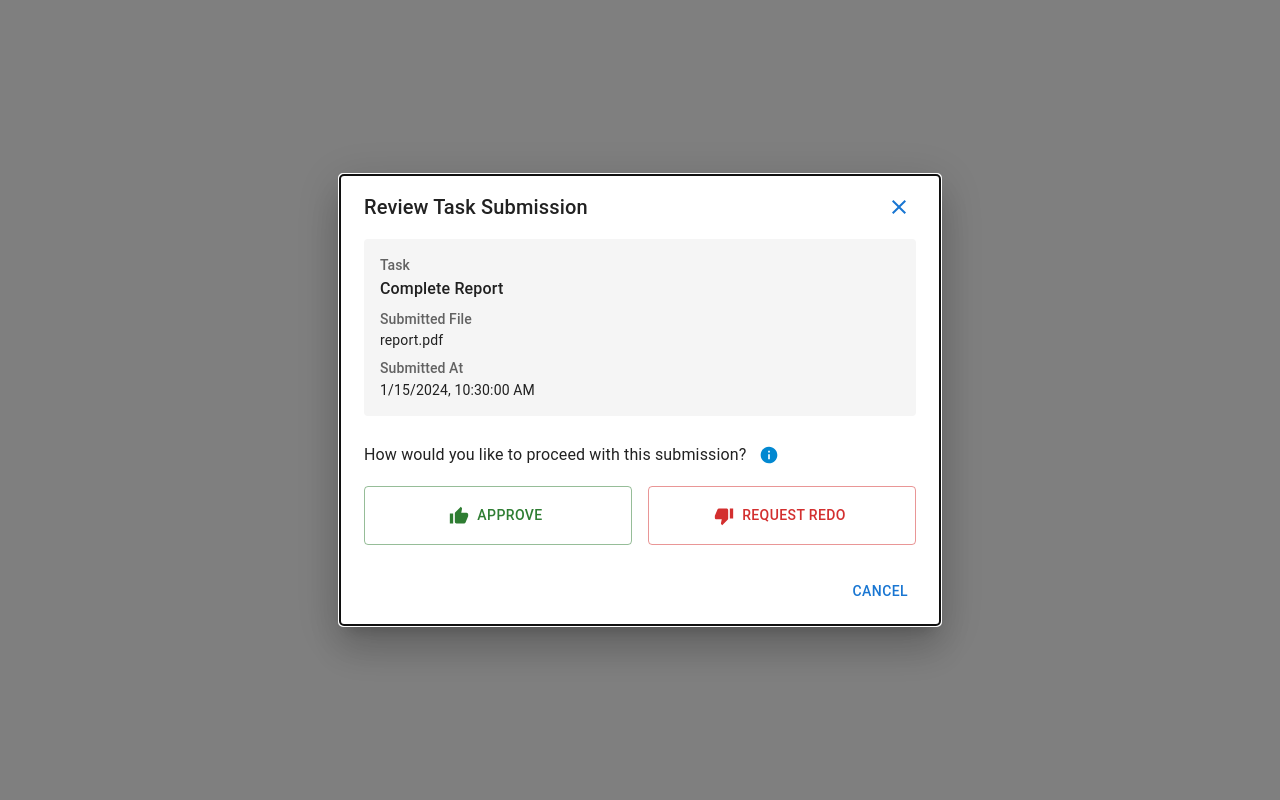
it: ReviewDialog Component › User Interactions › should show redo form when request redo is selected
This screenshot has width=1280, height=800.
Click the button "Request Redo" at (782, 516), box top-left (648, 486), bottom-right (916, 545)
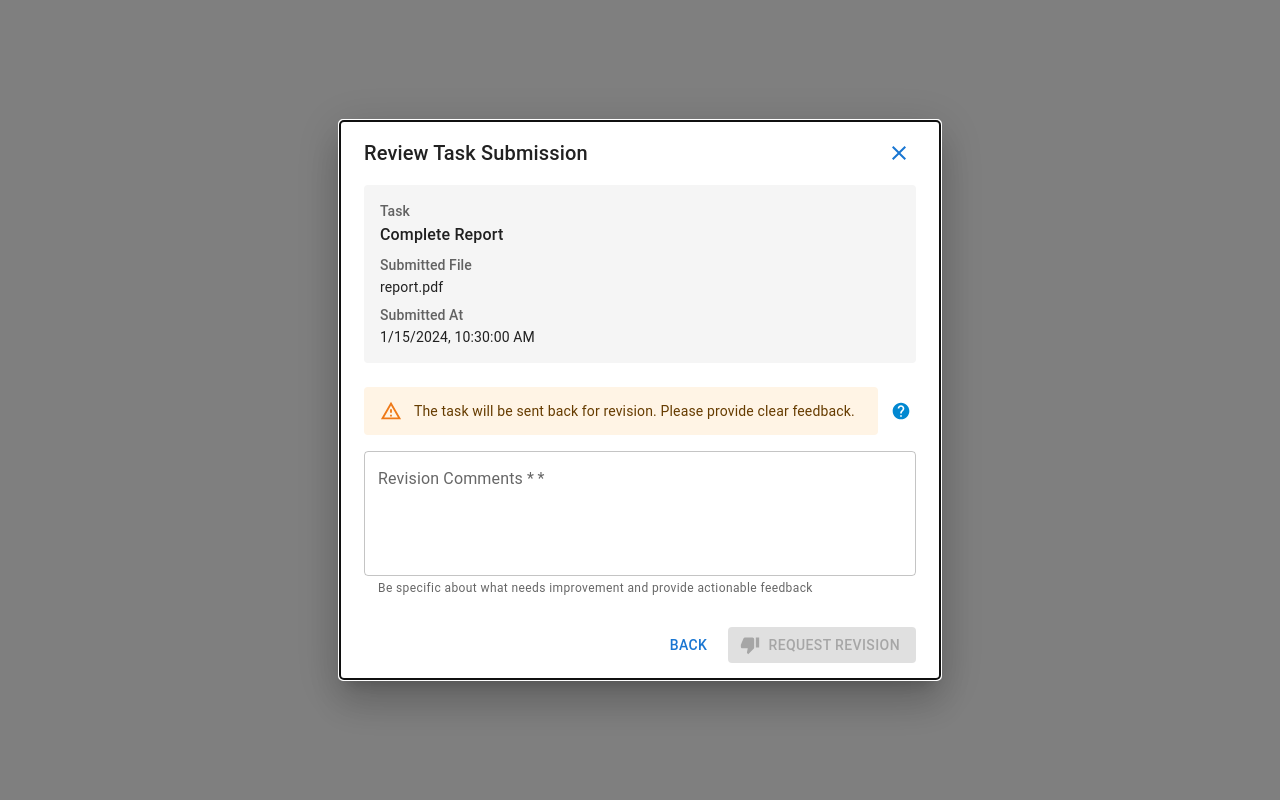
Expected: the text "The task will be sent back for revision. Please provide clear feedback." is shown, top-left (414, 403), bottom-right (855, 419)
Expected: the text box labelled "Revision Comments * *" is shown, top-left (378, 467), bottom-right (902, 559)
